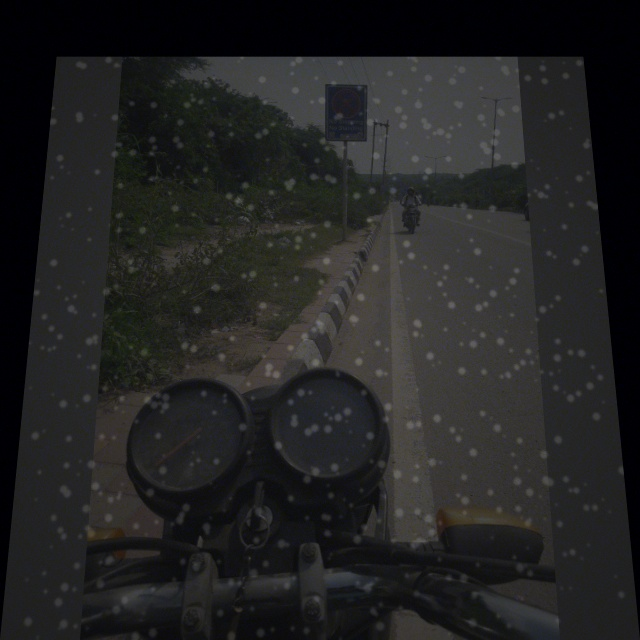No_Stopping_or_Standing: (326, 84, 369, 122)
